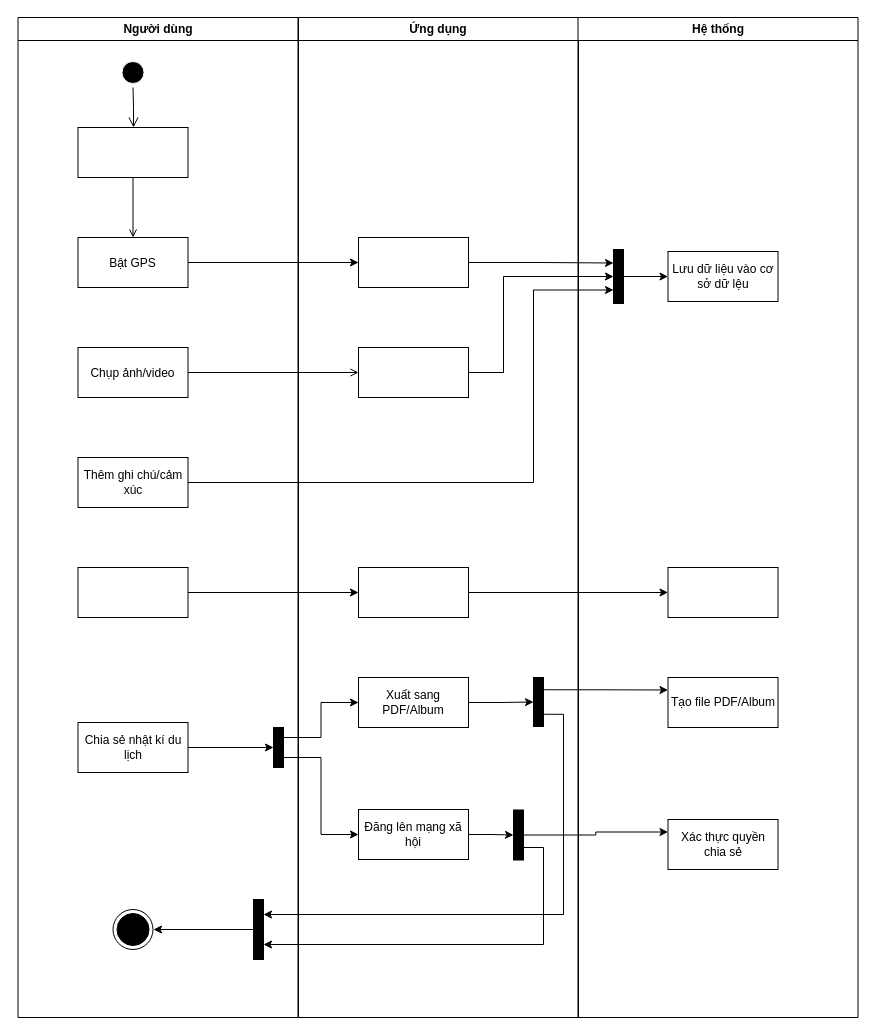
Some shapes in this 875 by 1035 pixel diagram are drawn without their labels. Here are the shapes that lost their labels. From the top down, the centre of each, then its label:
(132,152): Mở ứng dụng
(413,262): Lấy tọa độ GPS
(413,372): Lưu ảnh/video với tọa độ
(132,592): Xem hành trình trên bản đồ
(413,592): Hiển thị hành trình trên bản đồ
(722,592): Truy xuất dữ liệu bản đồ
